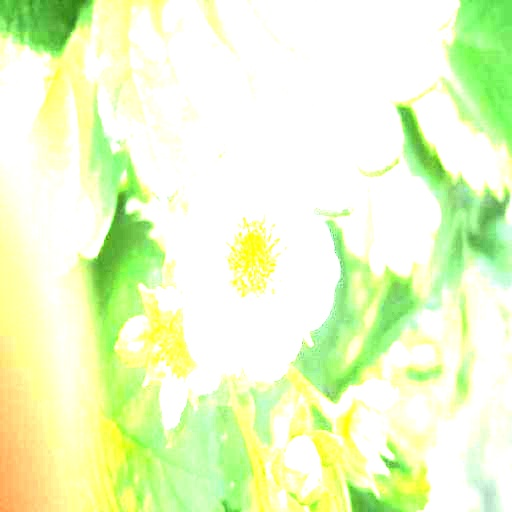Blossom Blight: (219, 206, 292, 305)
